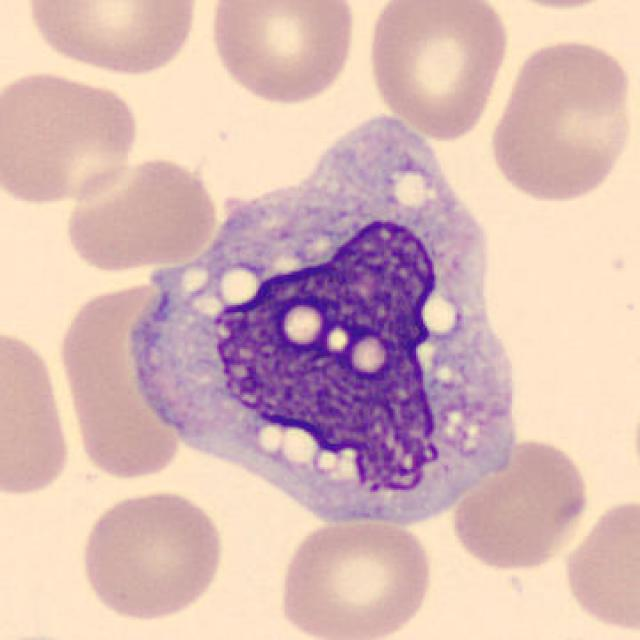Monocyte: (118, 106, 532, 530)
RBC: (53, 270, 192, 490), (486, 34, 636, 208), (74, 485, 226, 624), (363, 0, 512, 141), (0, 65, 144, 210), (446, 432, 592, 573), (276, 513, 436, 640), (61, 152, 222, 275), (205, 0, 359, 108), (17, 0, 202, 79), (0, 322, 75, 500), (558, 492, 638, 635), (478, 0, 631, 14)
